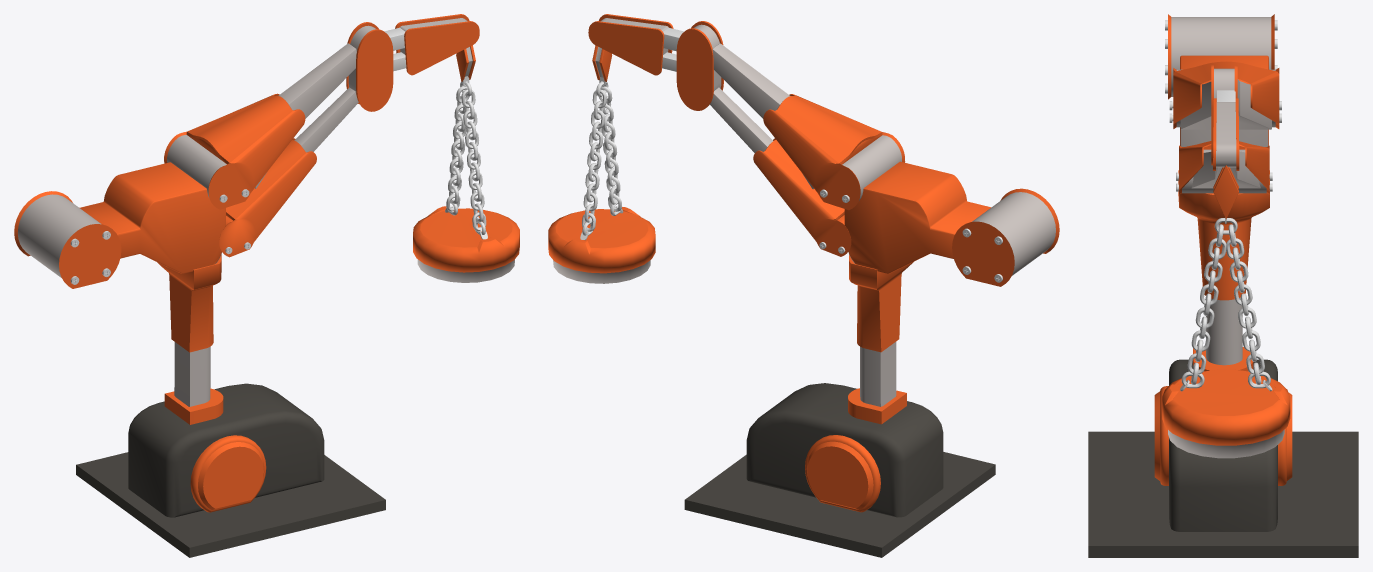
The model's file is Crane3.fbx.
3 views of the same model, side by side, from view 1: azimuth 30°, elevation 25°; view 2: azimuth 150°, elevation 25°; view 3: azimuth 270°, elevation 25° (orthographic). The views are drawn at different scales.
Parts seen in each view (by area): view 1: Cube.007, Cube.014, Cylinder.016, Cylinder.017, Cylinder.014, Cylinder.018, Cylinder.015, Plane.007, Cube.011, Cube.013, Torus.006, Cube.012 (+1 smaller); view 2: Cube.007, Cube.014, Cylinder.016, Cylinder.017, Cylinder.014, Cylinder.018, Cylinder.015, Plane.007, Cube.011, Cube.013, Torus.006, Cube.012 (+1 smaller); view 3: Cube.007, Cylinder.014, Cylinder.018, Cylinder.017, Cylinder.016, Torus.005, Cylinder.015, Cube.014, Torus.006, Cube.013, Plane.007, Cube.012 (+2 smaller).
Part boxes in pixels (x1,y1,x2,y2): Cube.007: [76, 383, 385, 557]; Cube.014: [79, 162, 225, 273]; Cylinder.016: [164, 93, 305, 209]; Cylinder.017: [14, 191, 121, 288]; Cylinder.014: [413, 206, 519, 282]; Cylinder.018: [157, 255, 221, 406]; Cylinder.015: [219, 138, 316, 257]; Plane.007: [395, 14, 479, 75]; Cube.011: [346, 22, 393, 111]; Cube.013: [255, 43, 356, 188]; Torus.006: [446, 86, 486, 230]; Cube.012: [294, 87, 358, 152]; Cube.007: [684, 383, 995, 557]; Cube.014: [844, 161, 990, 273]; Cylinder.016: [763, 94, 905, 210]; Cylinder.017: [952, 188, 1059, 286]; Cylinder.014: [548, 207, 655, 283]; Cylinder.018: [849, 255, 913, 406]; Cylinder.015: [753, 138, 851, 256]; Plane.007: [588, 14, 673, 75]; Cube.011: [676, 21, 723, 110]; Cube.013: [712, 43, 813, 189]; Torus.006: [582, 86, 621, 231]; Cube.012: [710, 87, 772, 152]; Cube.007: [1088, 347, 1358, 557]; Cylinder.014: [1162, 369, 1290, 458]; Cylinder.018: [1178, 170, 1269, 365]; Cylinder.017: [1168, 14, 1274, 99]; Cylinder.016: [1173, 61, 1279, 128]; Torus.005: [1187, 238, 1264, 374]; Cylinder.015: [1179, 141, 1269, 194]; Cube.014: [1180, 55, 1268, 146]; Torus.006: [1191, 224, 1261, 384]; Cube.013: [1180, 79, 1271, 129]; Plane.007: [1213, 98, 1239, 170]; Cube.012: [1191, 151, 1260, 188].
Size of the model in its own units: 243 by 210 by 100.
